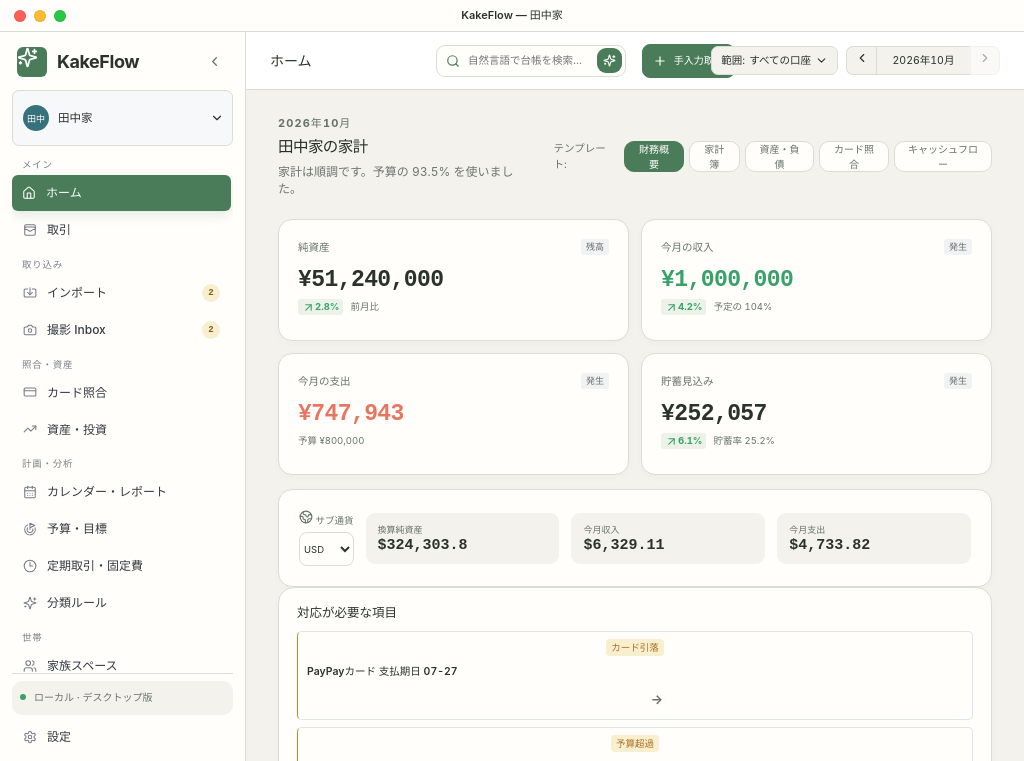
Test case: KakeFlow application shell › navigates to the import inbox
Click the button "インポート 2" at (122, 292), box [12,274,231,310]
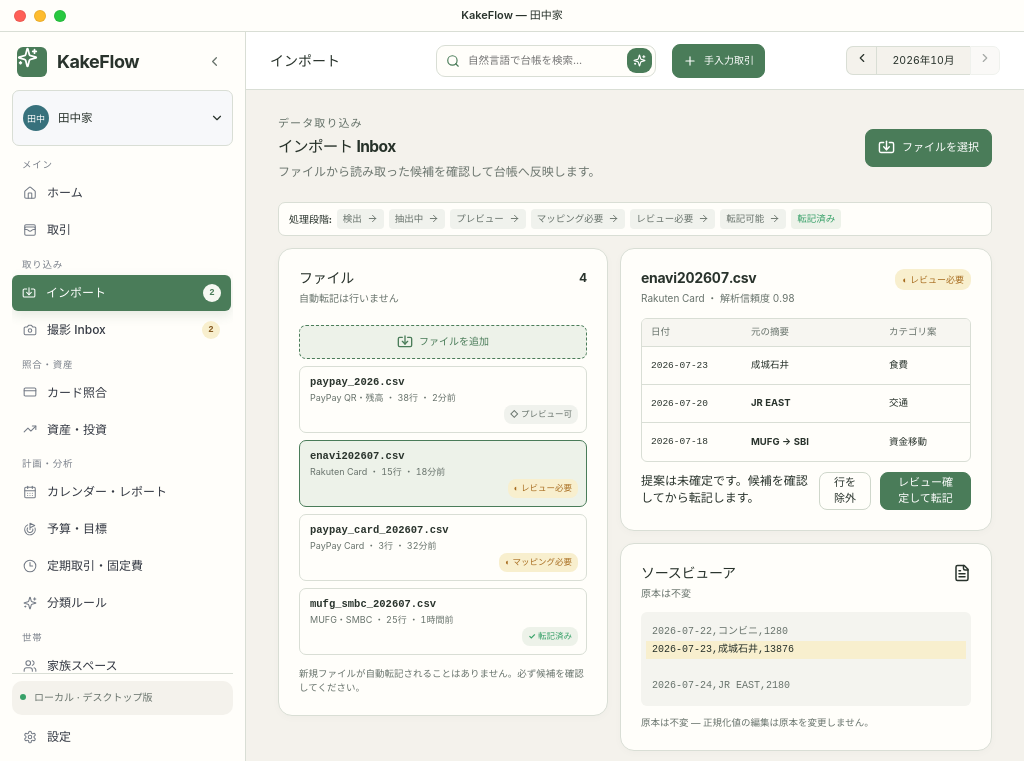
Check: the heading "インポート Inbox" is shown, box [278,137,396,156]
Check: the text "paypay_2026.csv" is shown, box [310,376,404,388]
Check: the text "◇ プレビュー可" is shown, box [504,405,578,424]
